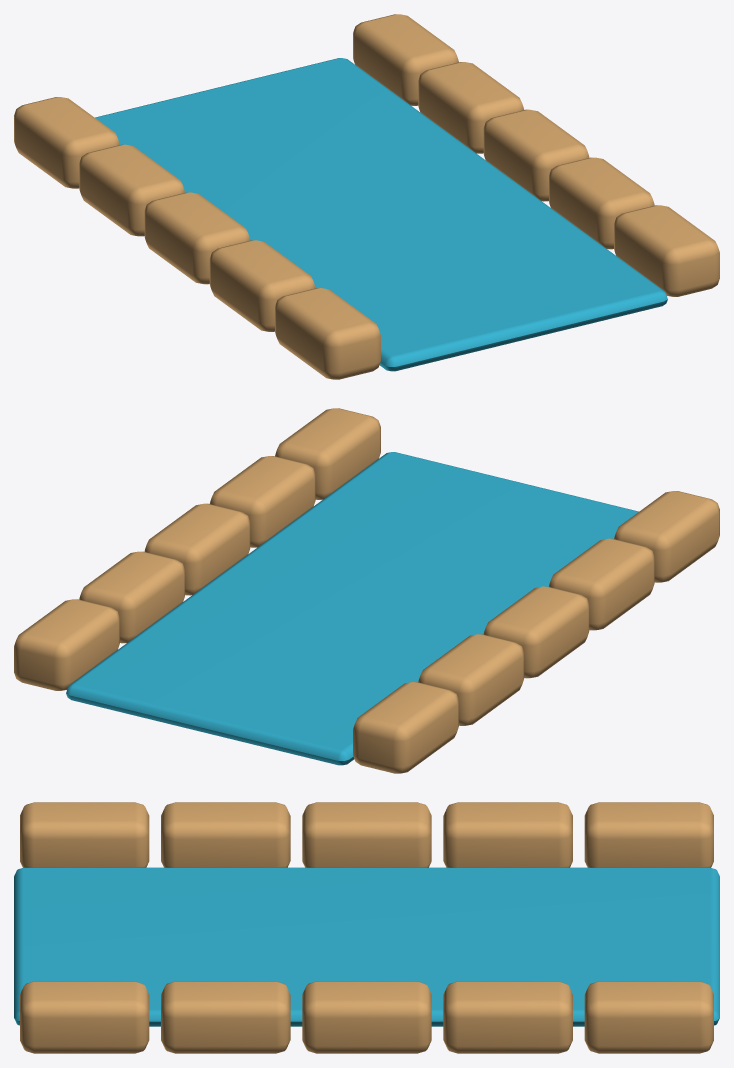
The model's file is NJD-20.glb.
3 renders of one model, top to bottom at view 1: azimuth 30°, elevation 25°; view 2: azimuth 150°, elevation 25°; view 3: azimuth 270°, elevation 25°, orthographic. The views are drawn at different scales.
Parts seen in each view (by area): view 1: water, water bank, water bank.005, water bank.002, water bank.003, water bank.001, water bank.004, water bank.007, water bank.008, water bank.009, water bank.006; view 2: water, water bank.004, water bank.009, water bank.002, water bank.001, water bank, water bank.003, water bank.007, water bank.006, water bank.005, water bank.008; view 3: water, water bank.007, water bank.006, water bank.008, water bank.005, water bank.009, water bank.002, water bank, water bank.001, water bank.003, water bank.004.
Part boxes in pixels (box(x1,y1,x2,y2)): water: box(95, 58, 667, 371); water bank: box(275, 288, 380, 379); water bank.005: box(614, 205, 719, 296); water bank.002: box(144, 192, 250, 284); water bank.003: box(79, 144, 184, 236); water bank.001: box(209, 240, 315, 331); water bank.004: box(14, 97, 119, 188); water bank.007: box(483, 109, 589, 201); water bank.008: box(418, 62, 524, 153); water bank.009: box(353, 14, 458, 105); water bank.006: box(549, 157, 654, 249); water: box(66, 452, 638, 765); water bank.004: box(353, 682, 458, 773); water bank.009: box(14, 599, 119, 690); water bank.002: box(483, 586, 589, 678); water bank.001: box(549, 538, 654, 630); water bank: box(614, 491, 719, 582); water bank.003: box(418, 634, 524, 725); water bank.007: box(144, 503, 250, 595); water bank.006: box(209, 456, 315, 547); water bank.005: box(275, 408, 380, 499); water bank.008: box(79, 551, 184, 643); water: box(14, 867, 719, 1026); water bank.007: box(302, 981, 431, 1053); water bank.006: box(161, 981, 290, 1053); water bank.008: box(443, 981, 572, 1053); water bank.005: box(20, 981, 149, 1053); water bank.009: box(584, 981, 713, 1053); water bank.002: box(302, 802, 431, 867); water bank: box(20, 802, 149, 867); water bank.001: box(161, 802, 290, 867); water bank.003: box(443, 802, 572, 867); water bank.004: box(584, 802, 713, 867).
Size of the model in its own units: 2.1 by 0.255 by 3.
